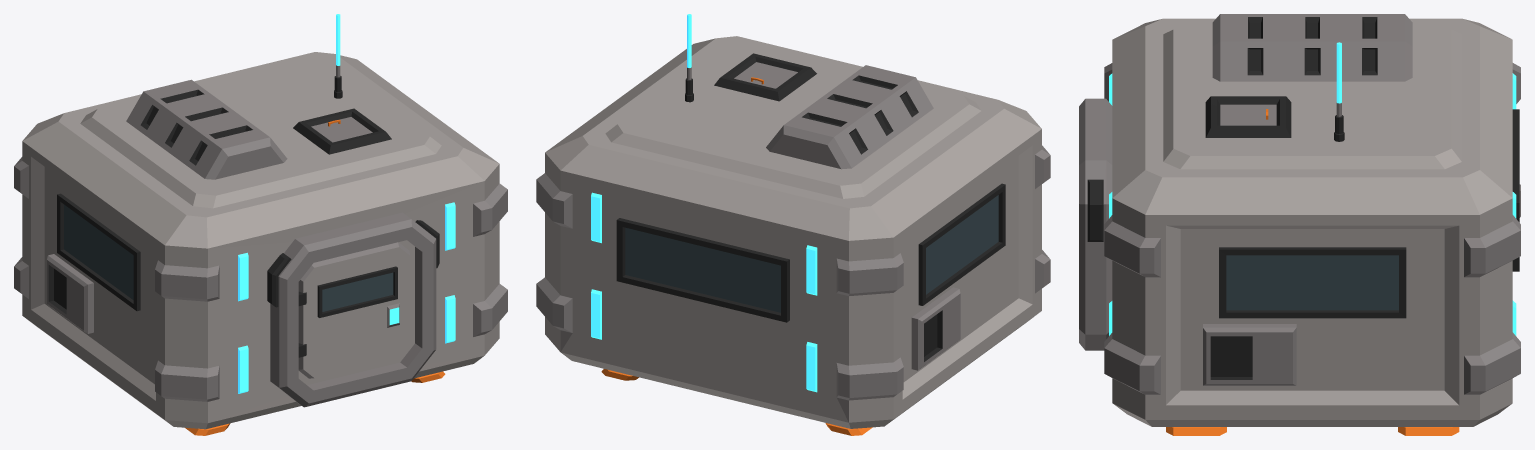
File: scifi_scifi-planet-base-room.fbx
3 views of the same model, side by side, from view 1: azimuth 30°, elevation 25°; view 2: azimuth 150°, elevation 25°; view 3: azimuth 270°, elevation 25° (orthographic). The views are drawn at different scales.
Visible parts, largest first — view 1: scifi_scifi_planet_base_room; view 2: scifi_scifi_planet_base_room; view 3: scifi_scifi_planet_base_room.
Part boxes in pixels (left/top/right/bottom): scifi_scifi_planet_base_room: left=14, top=14, right=507, bottom=435; scifi_scifi_planet_base_room: left=536, top=14, right=1050, bottom=435; scifi_scifi_planet_base_room: left=1079, top=14, right=1520, bottom=435.
Size of the model in its own units: 200 by 174 by 188.
